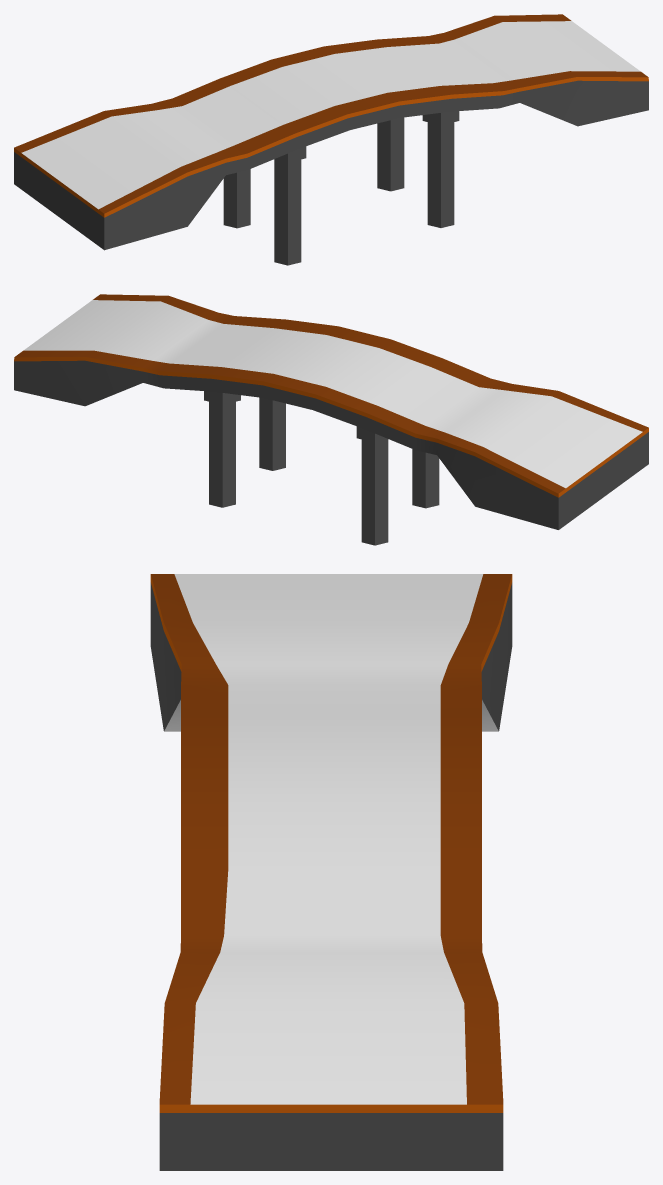
File: ponte1111.fbx
The picture shows the model from 3 angles, top to bottom: view 1: azimuth 30°, elevation 25°; view 2: azimuth 150°, elevation 25°; view 3: azimuth 270°, elevation 25°; orthographic projection. The views are drawn at different scales.
Parts seen in each view (by area): view 1: polySurface344, polySurface345; view 2: polySurface344, polySurface345; view 3: polySurface344.
Part boxes in pixels (x1,y1,x2,y2): polySurface344: (14, 14, 648, 250); polySurface345: (223, 111, 459, 265); polySurface344: (14, 294, 648, 529); polySurface345: (204, 391, 439, 545); polySurface344: (150, 574, 512, 1170).
Size of the model in its own units: 16.3 by 4.06 by 4.66.
